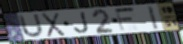2: (92, 8, 116, 35)
F: (114, 6, 137, 33)
I: (146, 5, 160, 31)
J: (72, 10, 90, 34)
U: (18, 13, 45, 40)
X: (40, 11, 67, 38)
